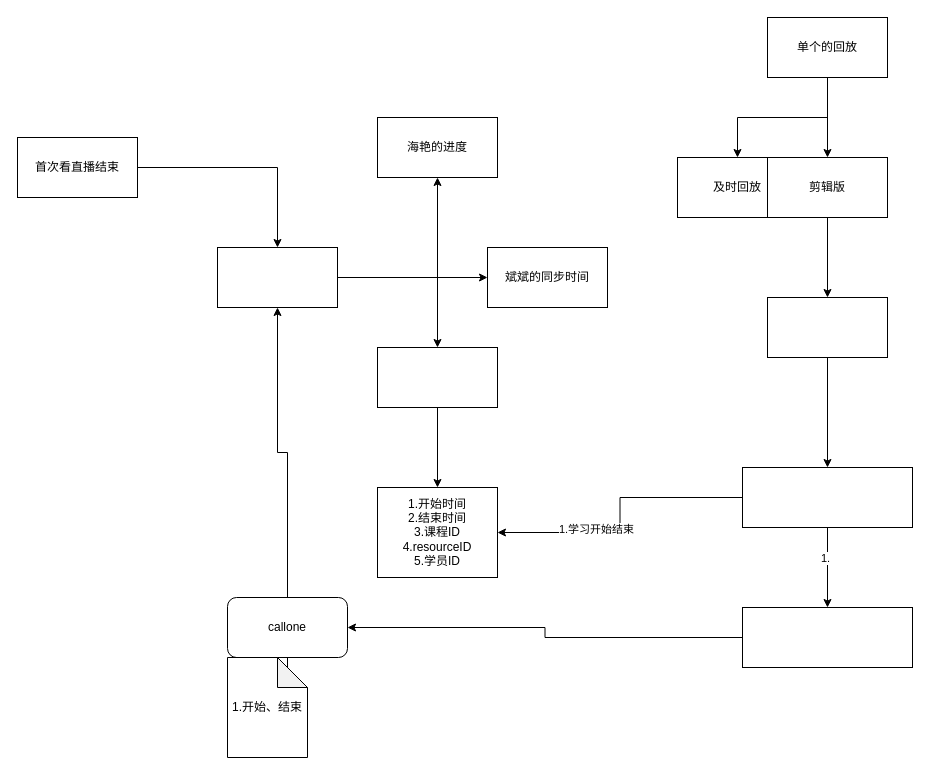
This 930x775 diagram has some shape labels left out. The box of each missing label's shape, as (x1, y1, x2, y2) in pixels:
1.学习时长：开始、结束: (742, 466, 912, 528)
app来的: (766, 296, 888, 358)
张俊杰统计: (742, 606, 912, 668)
批量、单次学情: (216, 246, 338, 308)
柴星的同步时间: (376, 346, 498, 408)
